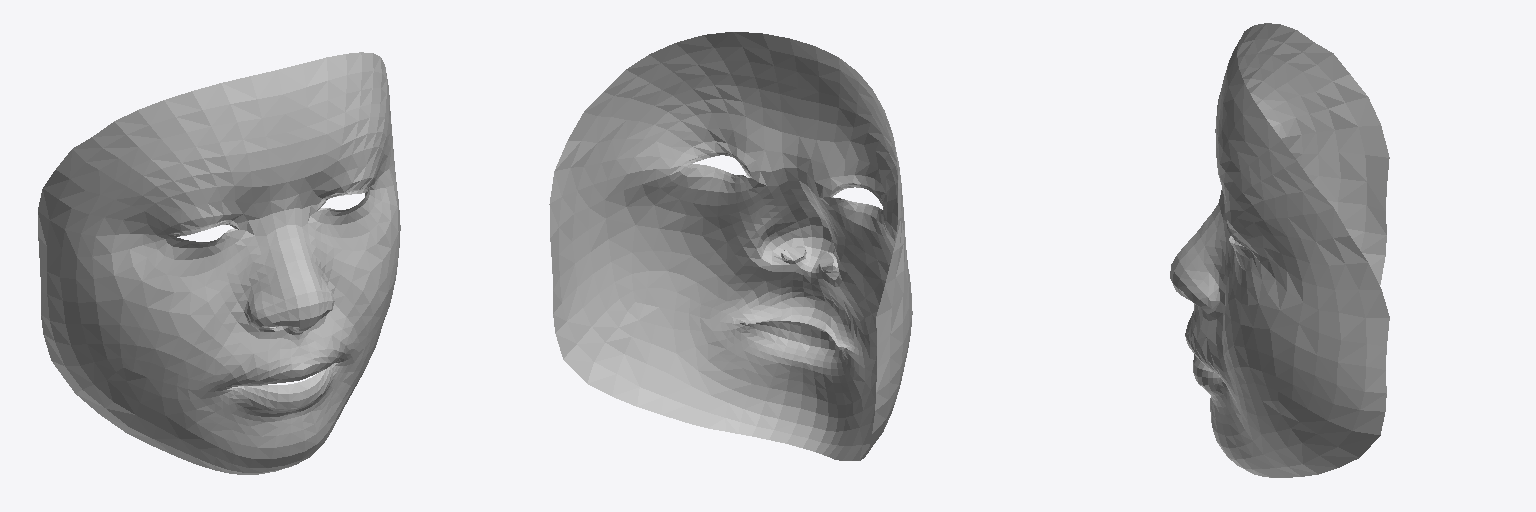
The model's file is eyeLookIn_L.obj.
3 views of the same model, side by side, from view 1: azimuth 30°, elevation 25°; view 2: azimuth 150°, elevation 25°; view 3: azimuth 270°, elevation 25° (orthographic).
Visible parts, largest first — view 1: default; view 2: default; view 3: default.
Boxes of the visible parts, x1=… form: default: x1=38, y1=52, x2=400, y2=474; default: x1=549, y1=32, x2=912, y2=460; default: x1=1170, y1=23, x2=1389, y2=477.
Bounding box in the file's own units: 0.1624 × 0.1851 × 0.0913.